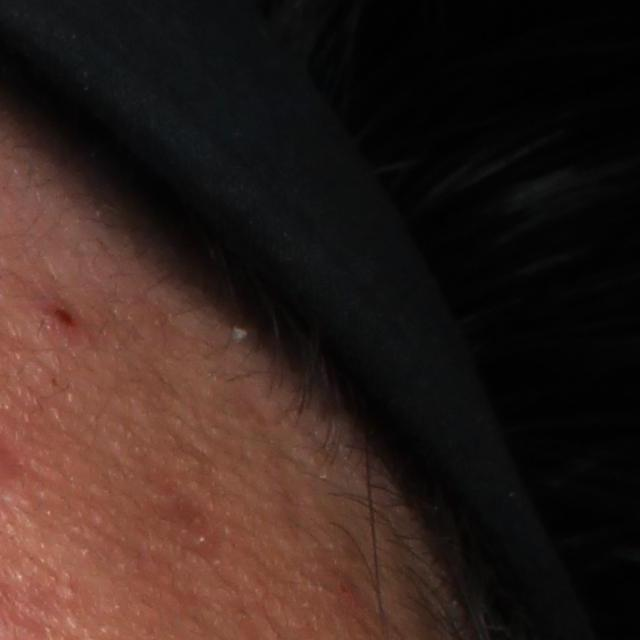papule: (31, 292, 92, 350)
